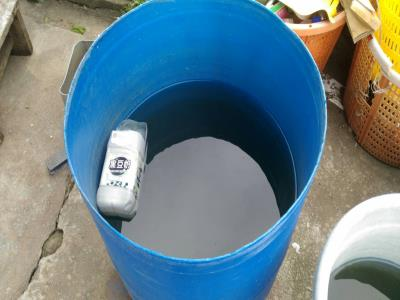bottle: (61, 1, 332, 300), (95, 129, 149, 222)
